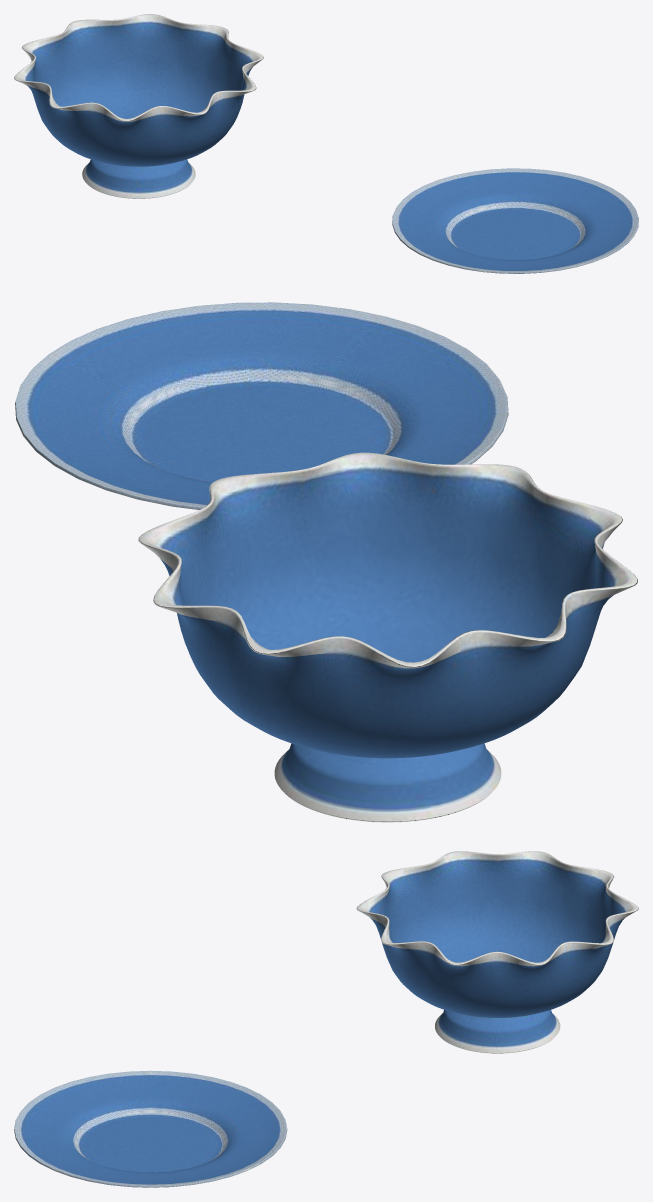
File: teacup.glb
The picture shows the model from 3 angles, top to bottom: view 1: azimuth 30°, elevation 25°; view 2: azimuth 150°, elevation 25°; view 3: azimuth 270°, elevation 25°; orthographic projection. The views are drawn at different scales.
Visible parts, largest first — view 1: Cup, Saucer; view 2: Cup, Saucer; view 3: Cup, Saucer.
Boxes of the visible parts, x1,y1,x2,y2 form: Cup: [14, 14, 263, 198]; Saucer: [392, 168, 638, 273]; Cup: [138, 452, 637, 822]; Saucer: [15, 302, 508, 509]; Cup: [356, 851, 638, 1053]; Saucer: [14, 1070, 287, 1187].
Bounding box in the file's own units: 0.6801 × 0.1694 × 0.7693.
2 materials, 2 textured.
